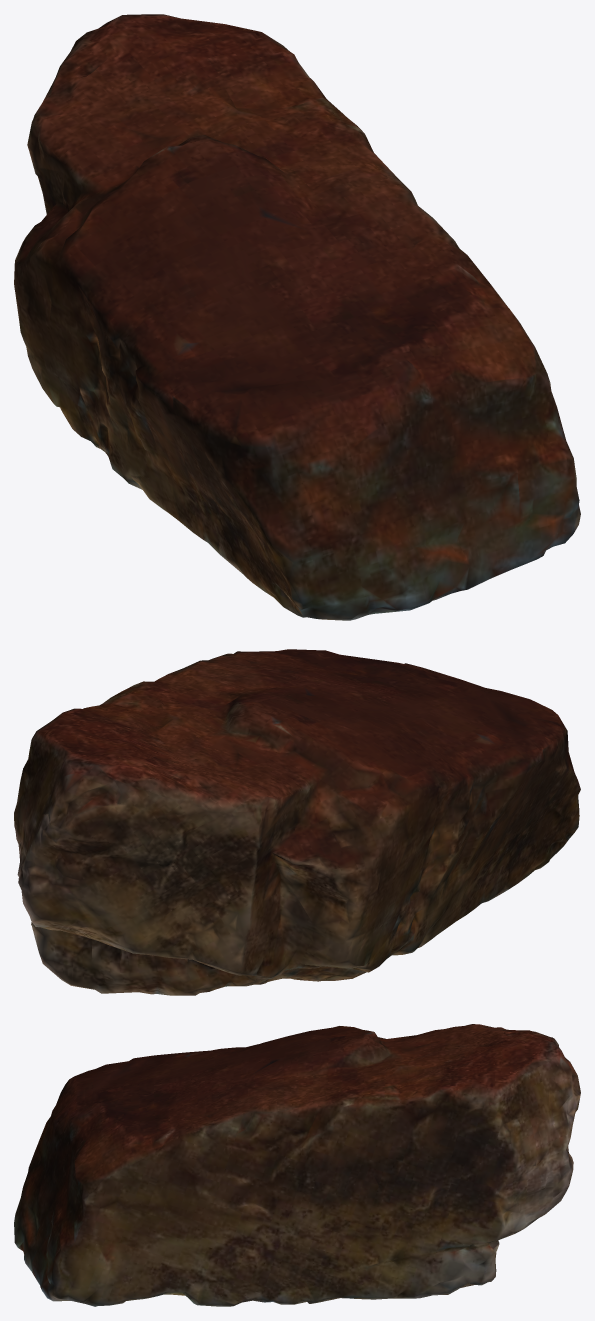
Rendered from rock_07.slim.glb.
3 views of the same model, one above another, from view 1: azimuth 30°, elevation 25°; view 2: azimuth 150°, elevation 25°; view 3: azimuth 270°, elevation 25° (orthographic). The views are drawn at different scales.
Size of the model in its own units: 0.1689 by 0.1437 by 0.3203.
Materials: 1 (1 with a texture image).
